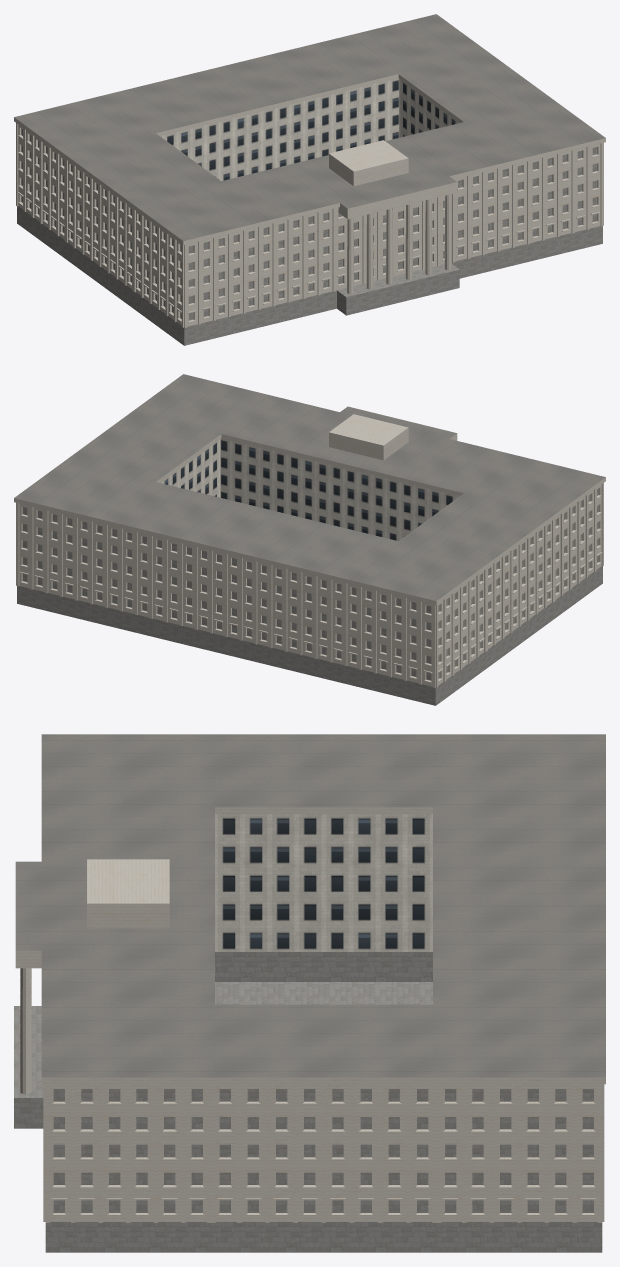
Rendered from fed_eccles.glb.
The picture shows the model from 3 angles, top to bottom: view 1: azimuth 30°, elevation 25°; view 2: azimuth 150°, elevation 25°; view 3: azimuth 270°, elevation 25°; orthographic projection. The views are drawn at different scales.
Visible parts, largest first — view 1: fed_eccles; view 2: fed_eccles; view 3: fed_eccles.
Part boxes in pixels (left/top/right/bottom): fed_eccles: left=14, top=14, right=605, bottom=345; fed_eccles: left=14, top=374, right=605, bottom=705; fed_eccles: left=14, top=734, right=605, bottom=1252.
Size of the model in its own units: 108 by 29.5 by 78.7.
Materials: 4 (4 with a texture image).
